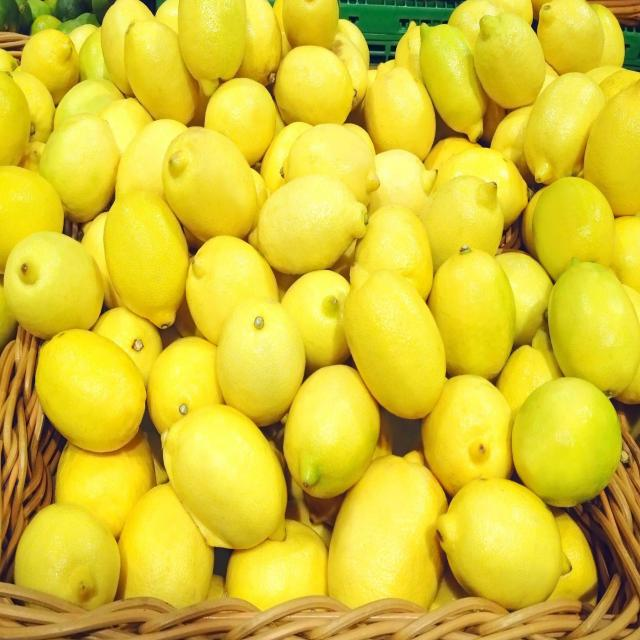lemon: (155, 401, 296, 551), (338, 256, 453, 432), (28, 321, 148, 460), (161, 122, 263, 245)
